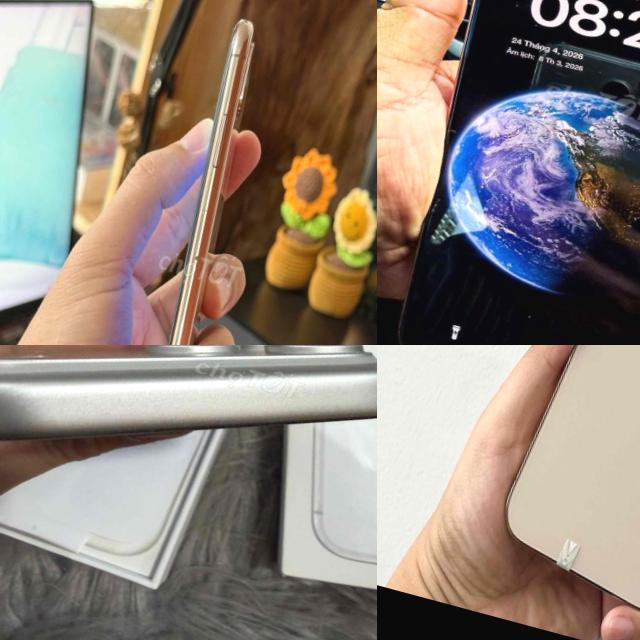gen_12_13: (488, 345, 640, 629)
gen_16: (399, 0, 640, 345)
gen_17: (0, 345, 377, 440), (0, 345, 377, 439)
gen_x_xs: (99, 9, 292, 345)
